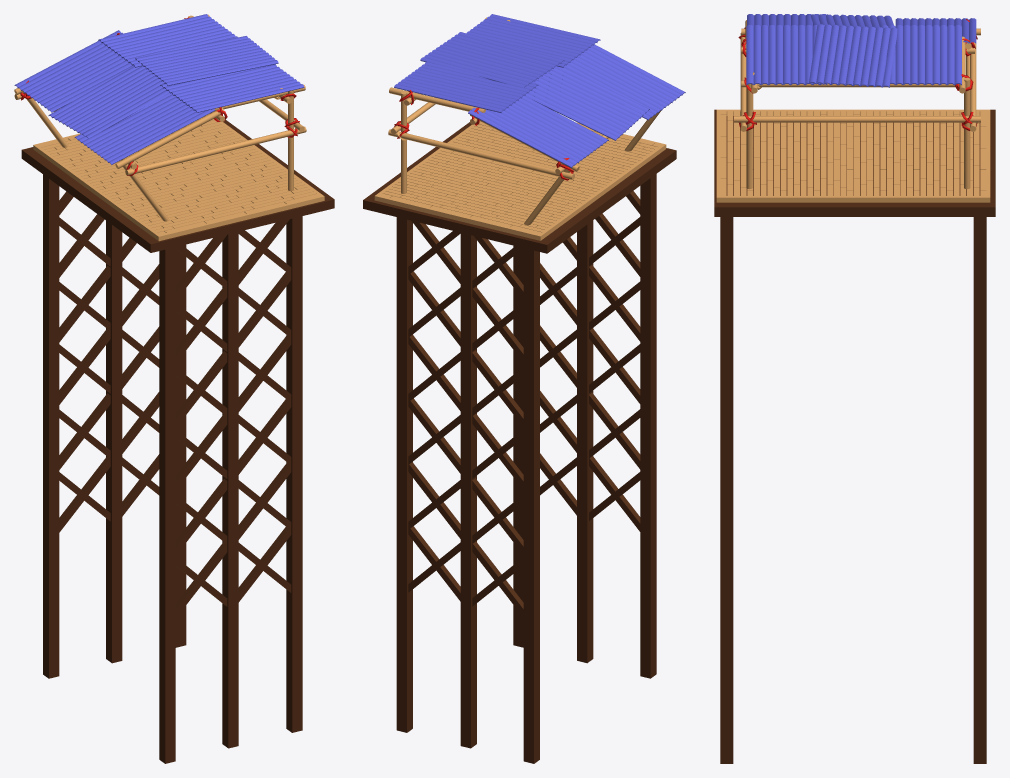
File: Stall02.fbx
3 views of the same model, side by side, from view 1: azimuth 30°, elevation 25°; view 2: azimuth 150°, elevation 25°; view 3: azimuth 270°, elevation 25° (orthographic). The views are drawn at different scales.
Parts seen in each view (by area): view 1: Cube.517; view 2: Cube.517; view 3: Cube.517.
Part boxes in pixels (left/top/right/bottom): Cube.517: left=14, top=14, right=334, bottom=763; Cube.517: left=363, top=14, right=685, bottom=763; Cube.517: left=714, top=14, right=995, bottom=763.
Bounding box in the file's own units: 745 × 2169 × 799.
